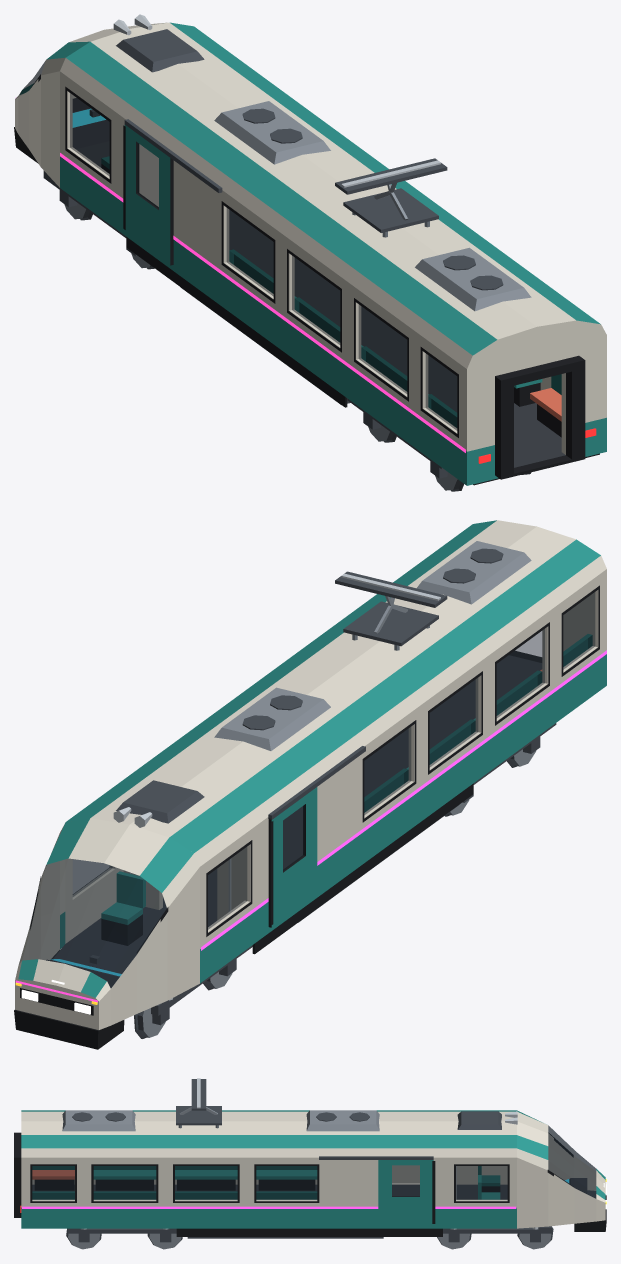
File: train_locomotive.glb
3 views of the same model, one above another, from view 1: azimuth 30°, elevation 25°; view 2: azimuth 150°, elevation 25°; view 3: azimuth 270°, elevation 25° (orthographic). The views are drawn at different scales.
Visible parts, largest first — view 1: Body, DoorL1, Pantograph, Bogie_R, Bogie_F; view 2: Body, DoorL1, Pantograph, Bogie_F, Bogie_R; view 3: Body, DoorR1, Bogie_F, Bogie_R, Pantograph, DoorL1.
Boxes of the visible parts, <box> form: Body: <box>14,14,606,485</box>; DoorL1: <box>123,125,173,265</box>; Pantograph: <box>335,158,447,237</box>; Bogie_R: <box>347,399,531,491</box>; Bogie_F: <box>43,171,154,269</box>; Body: <box>14,520,606,1049</box>; DoorL1: <box>268,787,317,927</box>; Pantograph: <box>335,571,447,650</box>; Bogie_F: <box>134,945,252,1038</box>; Bogie_R: <box>445,723,556,816</box>; Body: <box>14,1110,606,1238</box>; DoorR1: <box>378,1160,435,1225</box>; Bogie_F: <box>437,1226,553,1249</box>; Bogie_R: <box>66,1228,182,1249</box>; Pantograph: <box>176,1078,221,1128</box>; DoorL1: <box>392,1165,419,1182</box>.
Size of the model in its own units: 2.8 by 4.36 by 16.03.
